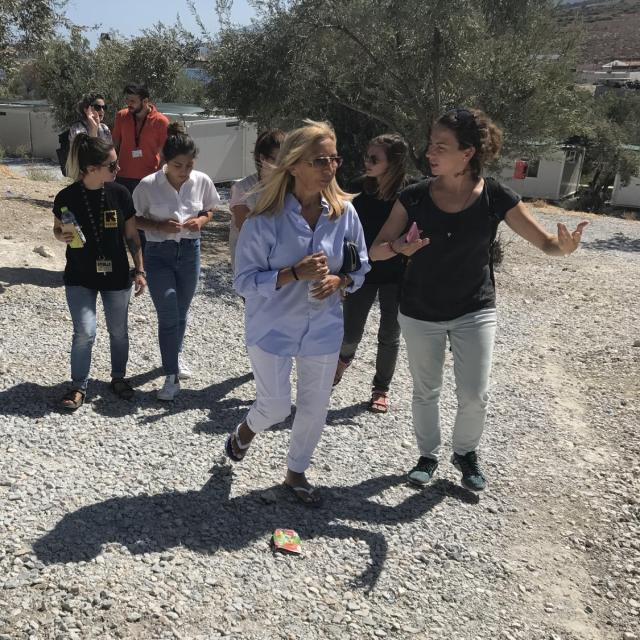body: (0, 359, 486, 600), (366, 104, 594, 494), (221, 116, 374, 512), (46, 126, 150, 416), (128, 118, 228, 404), (331, 133, 423, 414), (109, 80, 174, 282), (227, 126, 291, 304), (0, 253, 71, 301), (66, 91, 115, 149)
